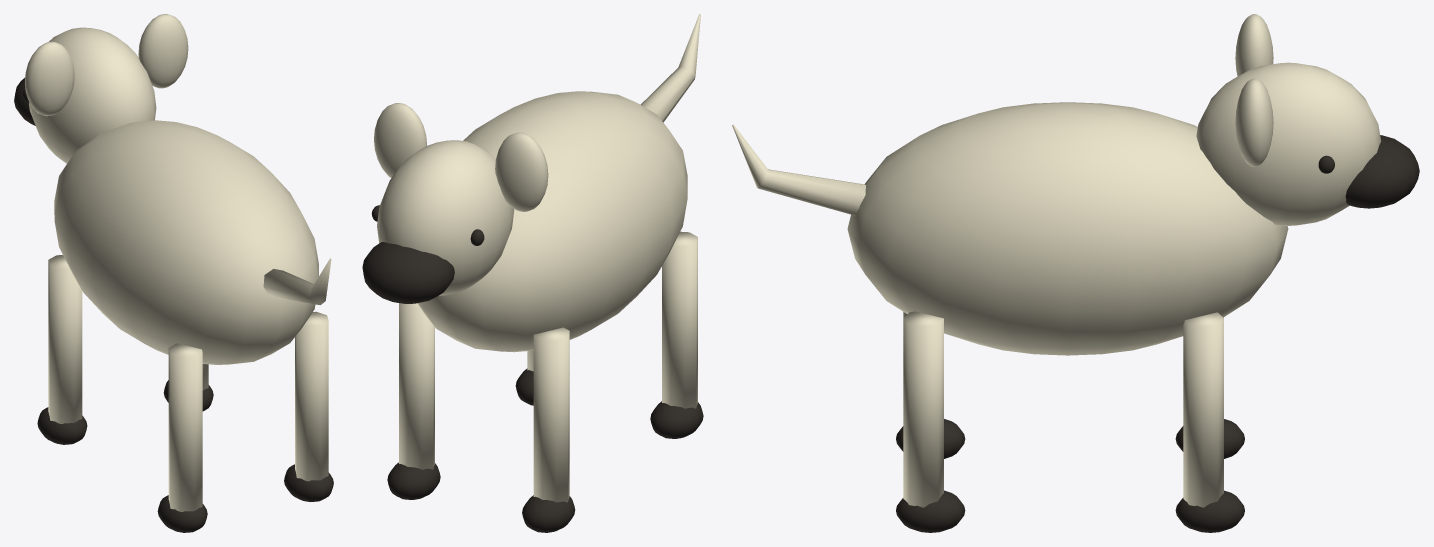
File: sheep.glb
3 renders of one model, left to right at view 1: azimuth 30°, elevation 25°; view 2: azimuth 150°, elevation 25°; view 3: azimuth 270°, elevation 25°, orthographic. The views are drawn at different scales.
Visible parts, largest first — view 1: Sheep_Geometry, AnimalHead_Geometry, AnimalLeg.001_Geometry, AnimalLeg_Geometry, AnimalLeg.003_Geometry, AnimalLeg.002_Geometry; view 2: Sheep_Geometry, AnimalHead_Geometry, AnimalLeg_Geometry, AnimalLeg.001_Geometry, AnimalLeg.002_Geometry, AnimalLeg.003_Geometry; view 3: Sheep_Geometry, AnimalHead_Geometry, AnimalLeg.003_Geometry, AnimalLeg.002_Geometry, AnimalLeg.001_Geometry.
Part boxes in pixels (x1,y1,x2,y2): Sheep_Geometry: (54,120,331,364); AnimalHead_Geometry: (14,14,188,163); AnimalLeg.001_Geometry: (157,343,207,532); AnimalLeg_Geometry: (37,255,87,444); AnimalLeg.003_Geometry: (284,311,333,501); AnimalLeg.002_Geometry: (163,364,213,411); Sheep_Geometry: (417,14,700,352); AnimalHead_Geometry: (362,103,548,303); AnimalLeg_Geometry: (522,327,575,532); AnimalLeg.001_Geometry: (650,231,703,438); AnimalLeg.002_Geometry: (387,303,440,499); AnimalLeg.003_Geometry: (515,350,533,405); Sheep_Geometry: (732,102,1288,355); AnimalHead_Geometry: (1196,14,1419,225); AnimalLeg.003_Geometry: (896,311,965,532); AnimalLeg.002_Geometry: (1175,312,1244,532); AnimalLeg.001_Geometry: (896,312,965,458).
Bounding box in the file's own units: 0.6 × 1.16 × 1.62.
